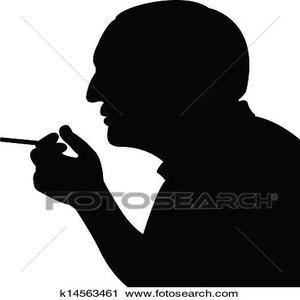cigarette: (1, 136, 64, 147)
